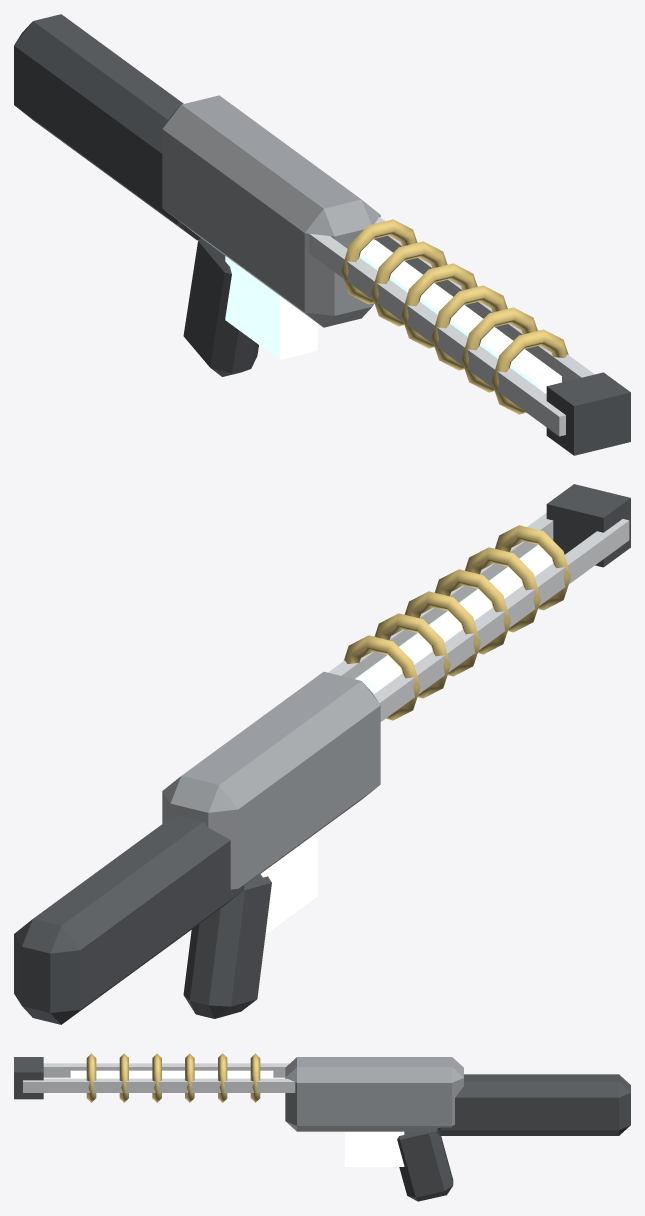
Rendered from weapon_arc.glb.
3 renders of one model, top to bottom at view 1: azimuth 30°, elevation 25°; view 2: azimuth 150°, elevation 25°; view 3: azimuth 270°, elevation 25°, orthographic. The views are drawn at different scales.
Visible parts, largest first — view 1: weapon_arc; view 2: weapon_arc; view 3: weapon_arc.
Boxes of the visible parts, x1,y1,x2,y2 form: weapon_arc: (14,14,630,455); weapon_arc: (14,484,630,1024); weapon_arc: (14,1053,630,1201).
Size of the model in its own units: 0.084 by 0.2639 by 1.03.
